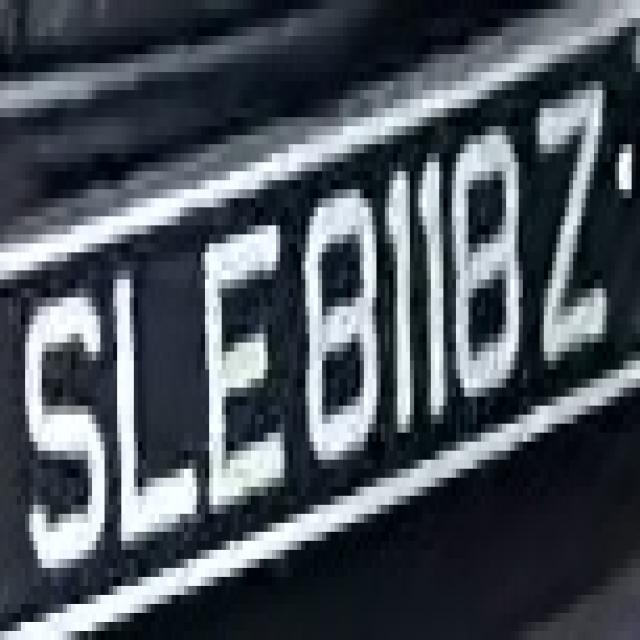1: (410, 117, 460, 460), (377, 108, 414, 442)
8: (301, 162, 381, 469), (443, 126, 523, 415)
E: (192, 216, 297, 523)
L: (105, 225, 196, 550)
S: (21, 270, 117, 595)
Z: (527, 81, 615, 406)
